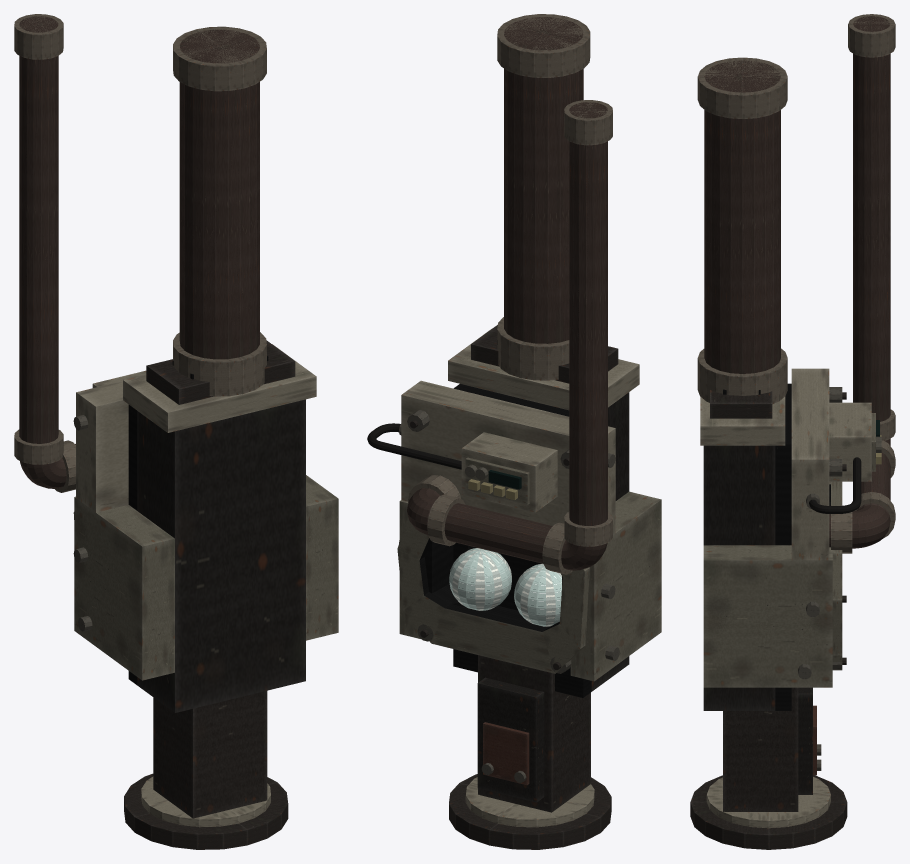
Rendered from kino_dispenser.obj.
The picture shows the model from 3 angles, left to right: view 1: azimuth 30°, elevation 25°; view 2: azimuth 150°, elevation 25°; view 3: azimuth 270°, elevation 25°; orthographic projection. The views are drawn at different scales.
Bounding box in the file's own units: 1.74 × 5 × 1.25.
